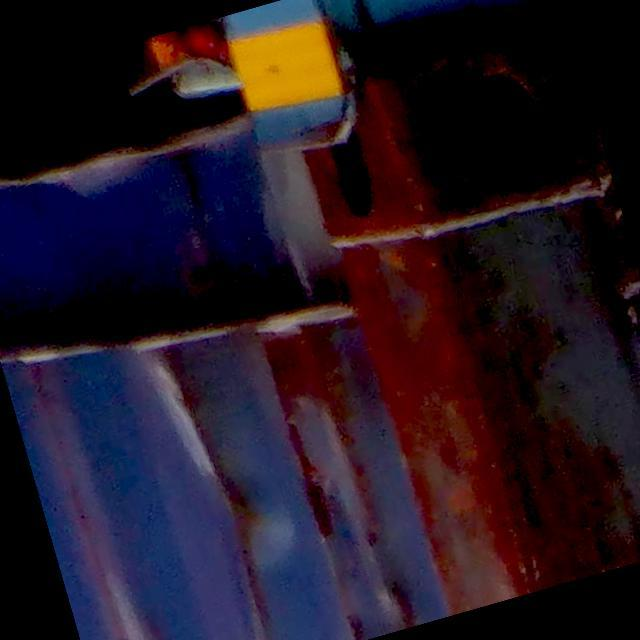rust: (84, 292, 443, 640)
